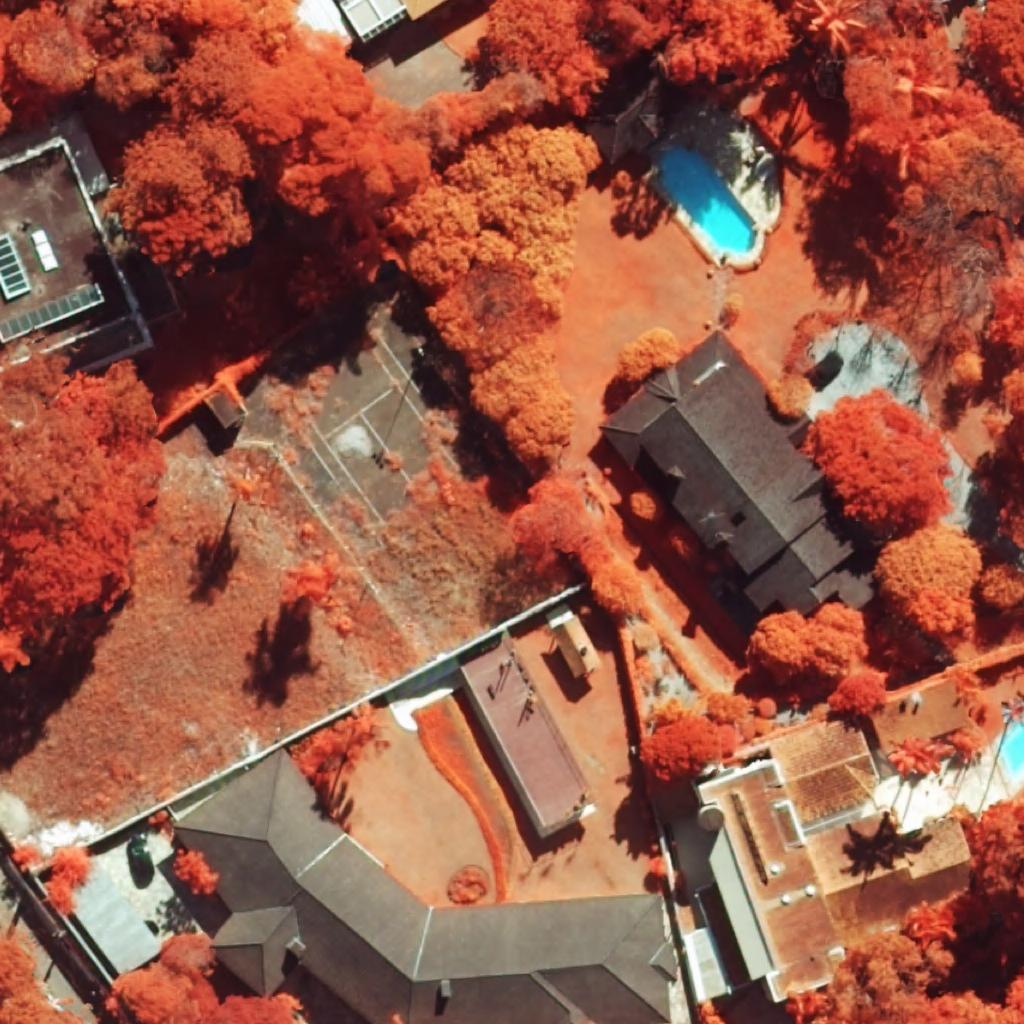pool: (658, 147, 756, 254), (1002, 720, 1024, 778)
